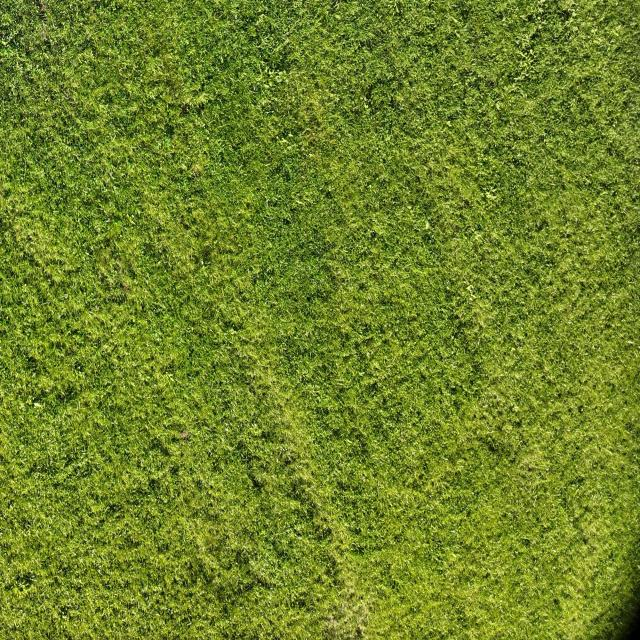rumex: (405, 201, 438, 241), (458, 275, 484, 307), (483, 182, 507, 214)
